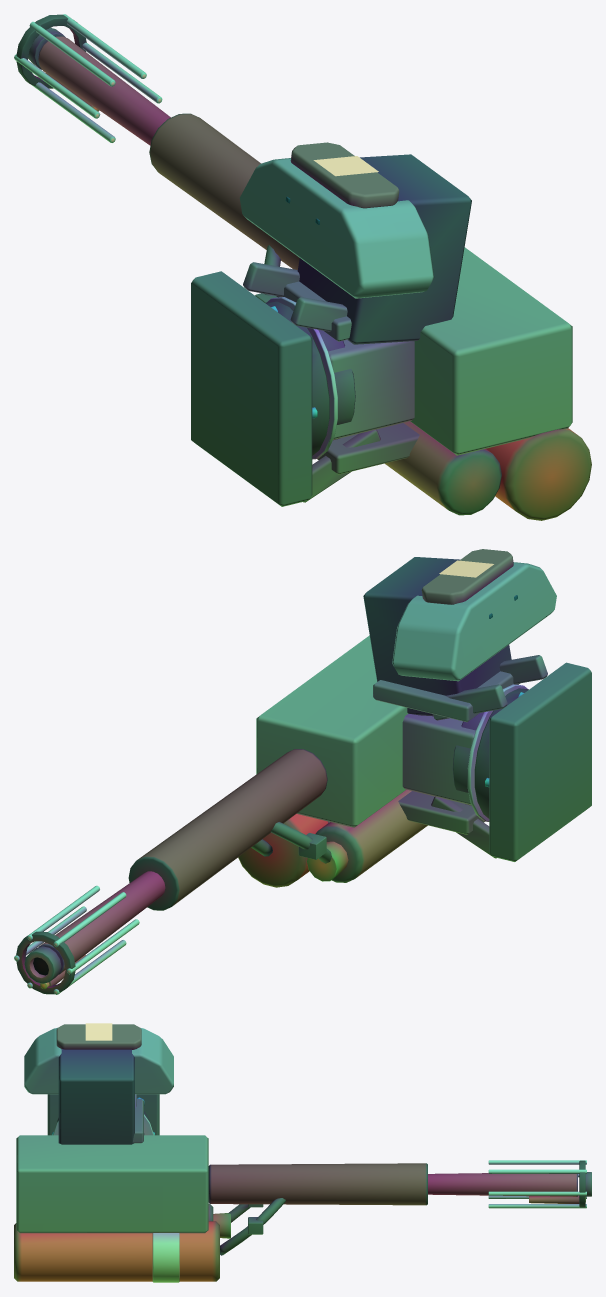
File: arm_m10flm.glb
3 views of the same model, one above another, from view 1: azimuth 30°, elevation 25°; view 2: azimuth 150°, elevation 25°; view 3: azimuth 270°, elevation 25° (orthographic). The views are drawn at different scales.
Visible parts, largest first — view 1: Body__armor, Body__gunmetal, Body__dark, Body__armor_oxide, Body__armor_sub, Body__chrome, Body__decal; view 2: Body__armor, Body__gunmetal, Body__dark, Body__armor_sub, Body__armor_oxide, Body__chrome, Body__brass, Body__decal; view 3: Body__armor, Body__dark, Body__armor_oxide, Body__gunmetal, Body__chrome, Body__hazard, Body__decal, Body__armor_sub, Body__copper, Body__brass.
Boxes of the visible parts, bbox=[...] form: Body__armor: bbox=[239, 158, 572, 455]; Body__gunmetal: bbox=[28, 28, 501, 515]; Body__dark: bbox=[16, 14, 471, 455]; Body__armor_oxide: bbox=[290, 142, 591, 520]; Body__armor_sub: bbox=[243, 262, 419, 502]; Body__chrome: bbox=[14, 14, 337, 459]; Body__decal: bbox=[313, 156, 378, 176]; Body__armor: bbox=[256, 562, 556, 827]; Body__gunmetal: bbox=[24, 662, 591, 983]; Body__dark: bbox=[16, 557, 528, 994]; Body__armor_sub: bbox=[373, 655, 547, 858]; Body__armor_oxide: bbox=[238, 549, 513, 887]; Body__chrome: bbox=[14, 684, 527, 994]; Body__brass: bbox=[307, 841, 348, 881]; Body__decal: bbox=[439, 560, 493, 577]; Body__armor: bbox=[16, 1027, 208, 1233]; Body__dark: bbox=[57, 1049, 585, 1207]; Body__armor_oxide: bbox=[14, 1024, 219, 1281]; Body__gunmetal: bbox=[47, 1094, 591, 1255]; Body__chrome: bbox=[52, 1097, 586, 1208]; Body__hazard: bbox=[152, 1233, 179, 1282]; Body__decal: bbox=[85, 1023, 112, 1040]; Body__armor_sub: bbox=[133, 1094, 143, 1143]; Body__copper: bbox=[529, 1195, 579, 1203]; Body__brass: bbox=[213, 1213, 230, 1238].
Size of the model in its own units: 0.909 by 1.03 by 2.58.
